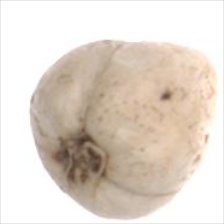L4: (28, 39, 218, 219)
